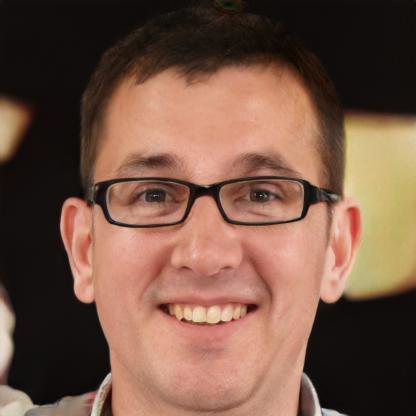glasses: (89, 172, 327, 233)
